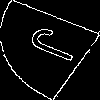J: (24, 25, 95, 69)
